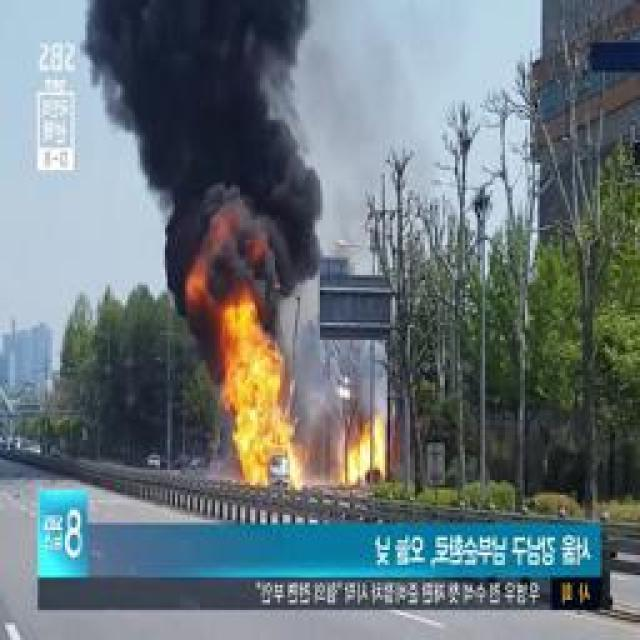Fire: (235, 341, 285, 470), (343, 433, 380, 480), (227, 300, 258, 334), (288, 459, 308, 483)
